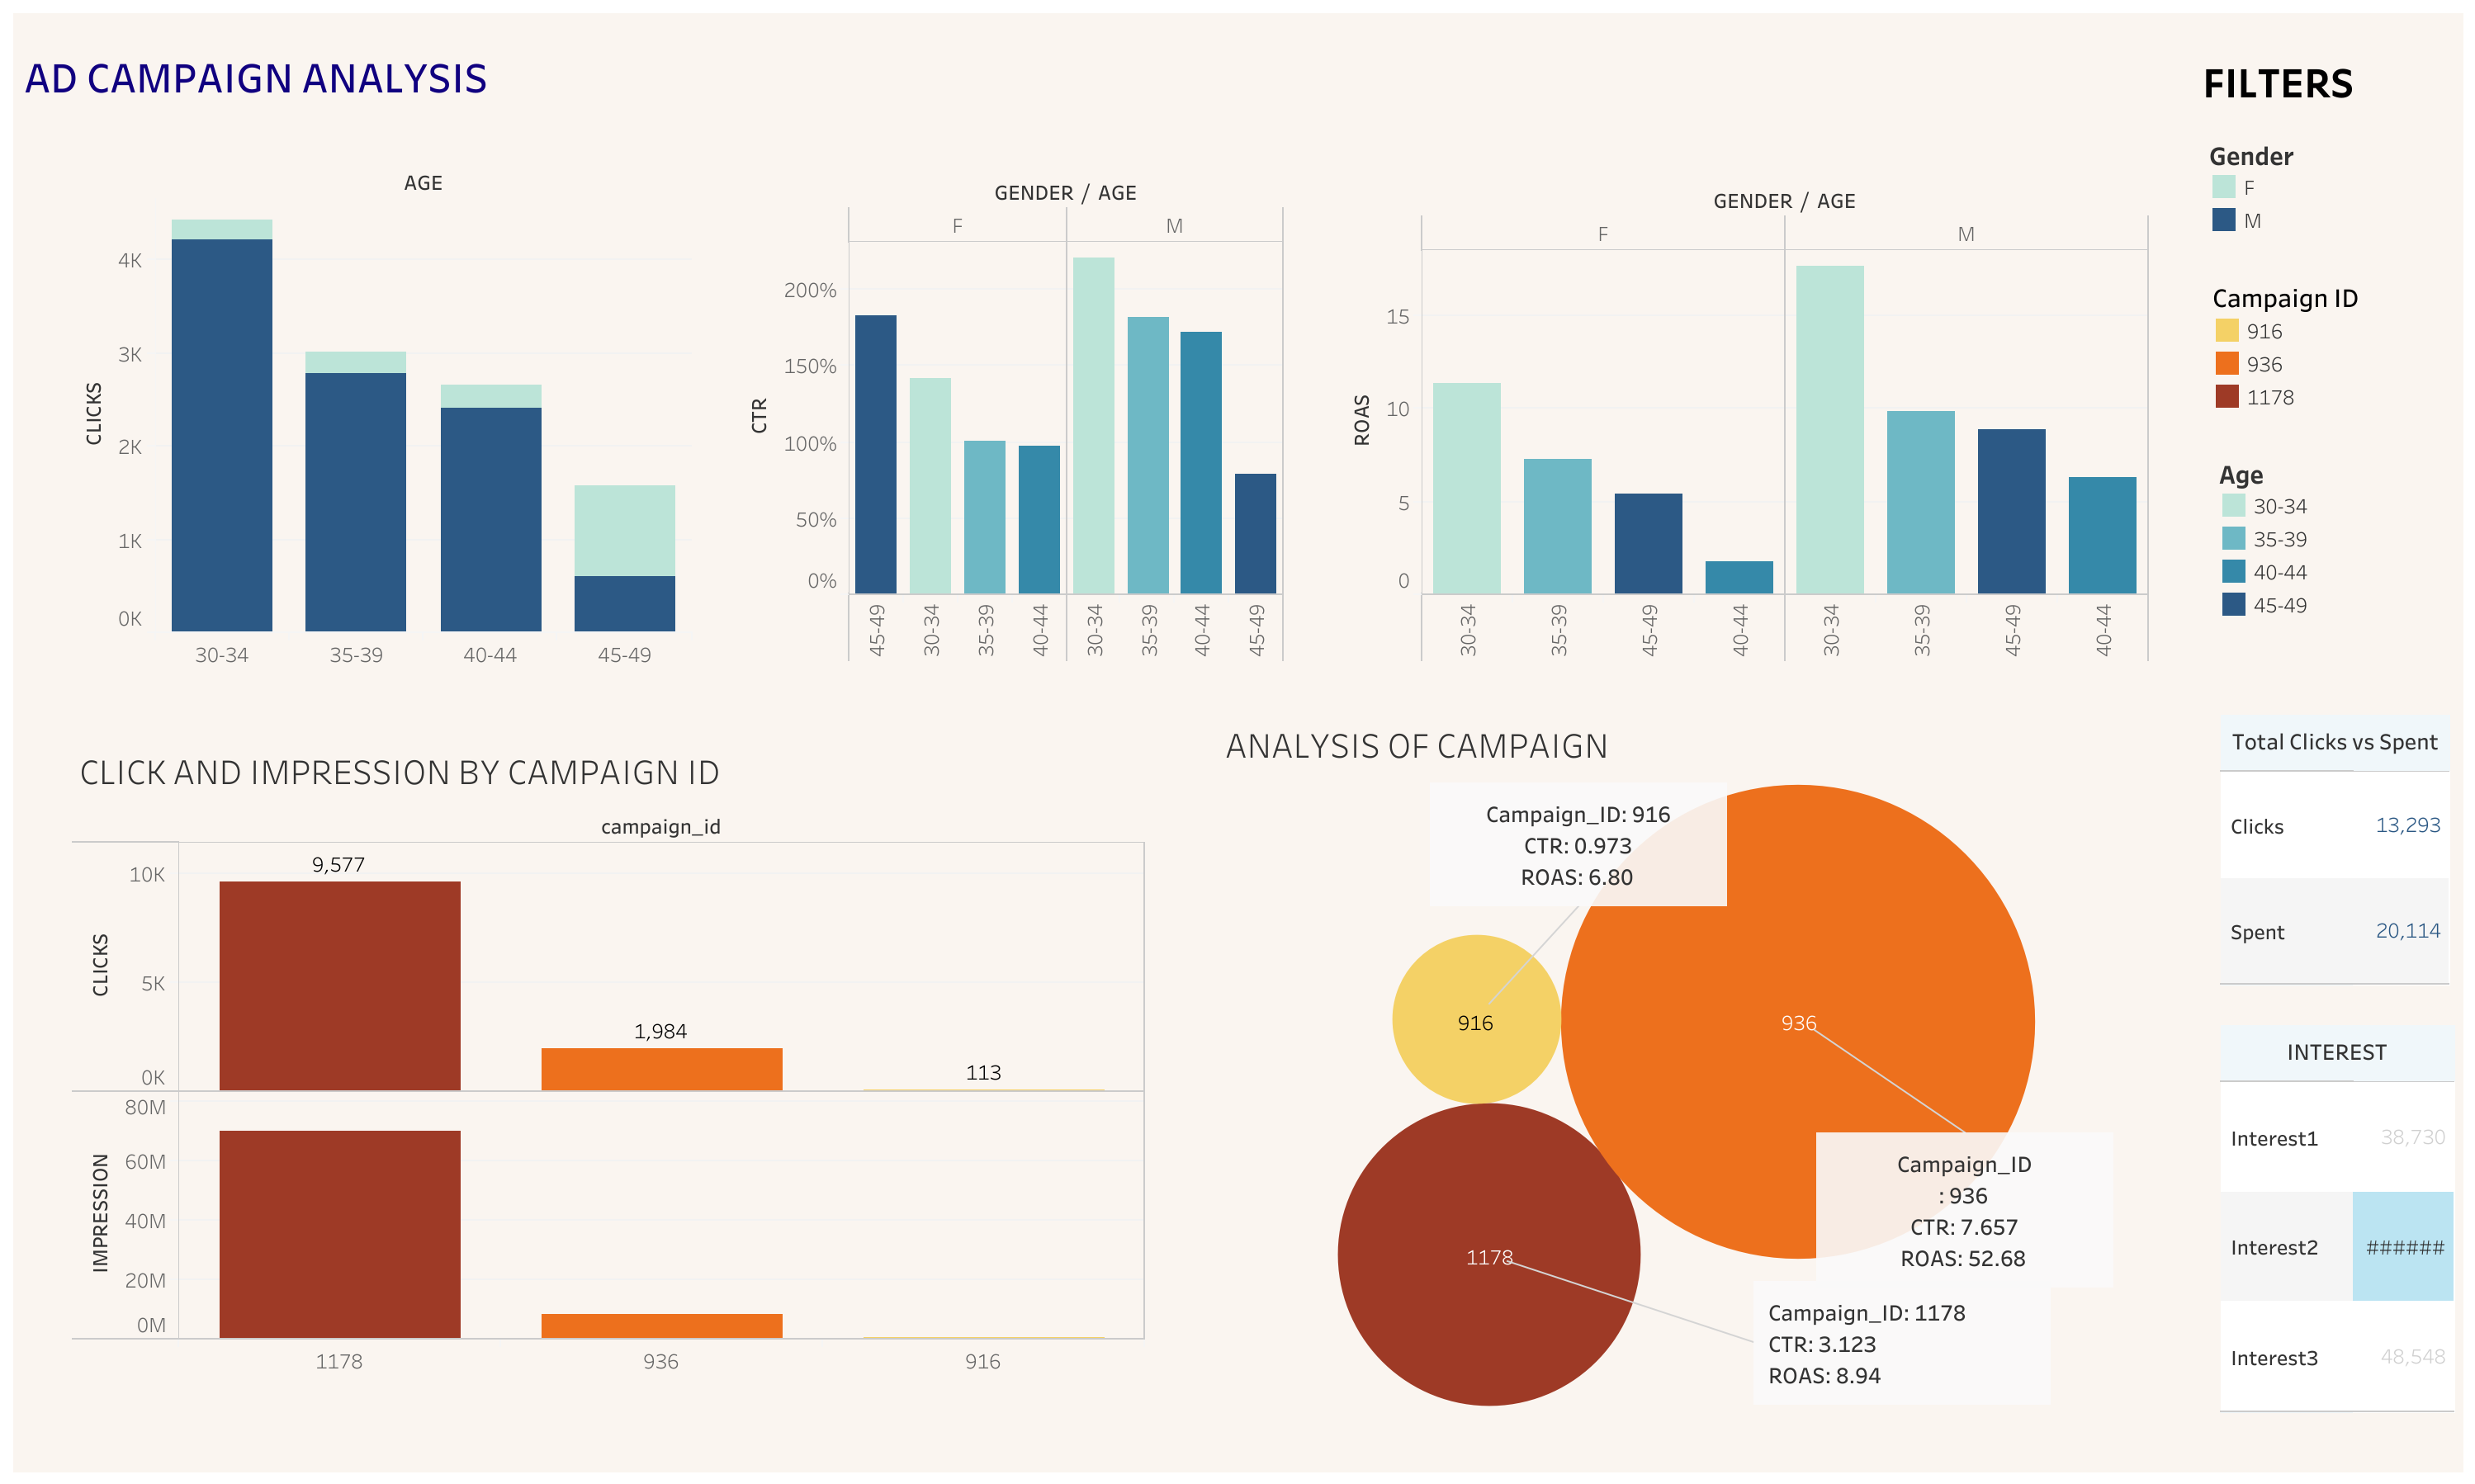

Layout of this report page (visuals, bound fields, positions):
{"tool":"tableau","page":{"name":"Dashboard 1","canvas":[1500,900],"ordinal":0},"visuals":[{"type":"title","box":[8,8,1484,75]},{"type":"text","box":[1330,32,100,33]},{"type":"legend","title":"CLICKS BY AGES AND GENDER","param":"[federated.1hpr73t0g7gcp015lkxqq0d3pywa].[none:gender:nk]","box":[1337,81,140,77]},{"type":"worksheet","title":"CLICKS BY AGES AND GENDER","mark":"Automatic","rows":["clicks"],"cols":["age"],"box":[40,100,379,305]},{"type":"worksheet","title":"CTR ANALYSIS","mark":"Automatic","rows":["Calculation_16184820235043007"],"cols":["gender","age"],"box":[443,106,335,295]},{"type":"worksheet","title":"ROAS","mark":"Automatic","rows":["Calculation_16184820235190464"],"cols":["gender","age"],"box":[808,111,494,290]},{"type":"legend","title":"CLICK AND IMPRESSION BY CAMPAIGN ID","param":"[federated.1hpr73t0g7gcp015lkxqq0d3pywa].[none:campaign_id:nk]","box":[1339,167,140,102]},{"type":"legend","title":"CTR ANALYSIS","param":"[federated.1hpr73t0g7gcp015lkxqq0d3pywa].[none:age:nk]","box":[1343,274,140,114]},{"type":"worksheet","title":"ANAYSIS OF ALL","mark":"Circle","box":[738,431,567,421]},{"type":"worksheet","title":"Sheet 6","mark":"Automatic","box":[1345,433,139,164]},{"type":"worksheet","title":"CLICK AND IMPRESSION BY CAMPAIGN ID","mark":"Automatic","rows":["clicks","impressions"],"cols":["campaign_id"],"box":[44,447,650,387]},{"type":"worksheet","title":"Sheet 7","mark":"Automatic","box":[1345,621,142,235]}]}

Visuals, with their boxes in screenshot pixels (x1, y1, x2, y2), scaled from the page's 1500x900 canvas onto the 2475x1484 screenshot:
title: select_region(13, 13, 2462, 137)
text: select_region(2194, 53, 2359, 107)
"CLICKS BY AGES AND GENDER" legend: select_region(2206, 134, 2437, 261)
"CLICKS BY AGES AND GENDER" worksheet: select_region(66, 165, 691, 668)
"CTR ANALYSIS" worksheet: select_region(731, 175, 1284, 661)
"ROAS" worksheet: select_region(1333, 183, 2148, 661)
"CLICK AND IMPRESSION BY CAMPAIGN ID" legend: select_region(2209, 276, 2440, 443)
"CTR ANALYSIS" legend: select_region(2216, 451, 2447, 640)
"ANAYSIS OF ALL" worksheet (Circle marks): select_region(1218, 711, 2153, 1405)
"Sheet 6" worksheet: select_region(2219, 714, 2449, 985)
"CLICK AND IMPRESSION BY CAMPAIGN ID" worksheet: select_region(73, 737, 1145, 1375)
"Sheet 7" worksheet: select_region(2219, 1024, 2454, 1411)
